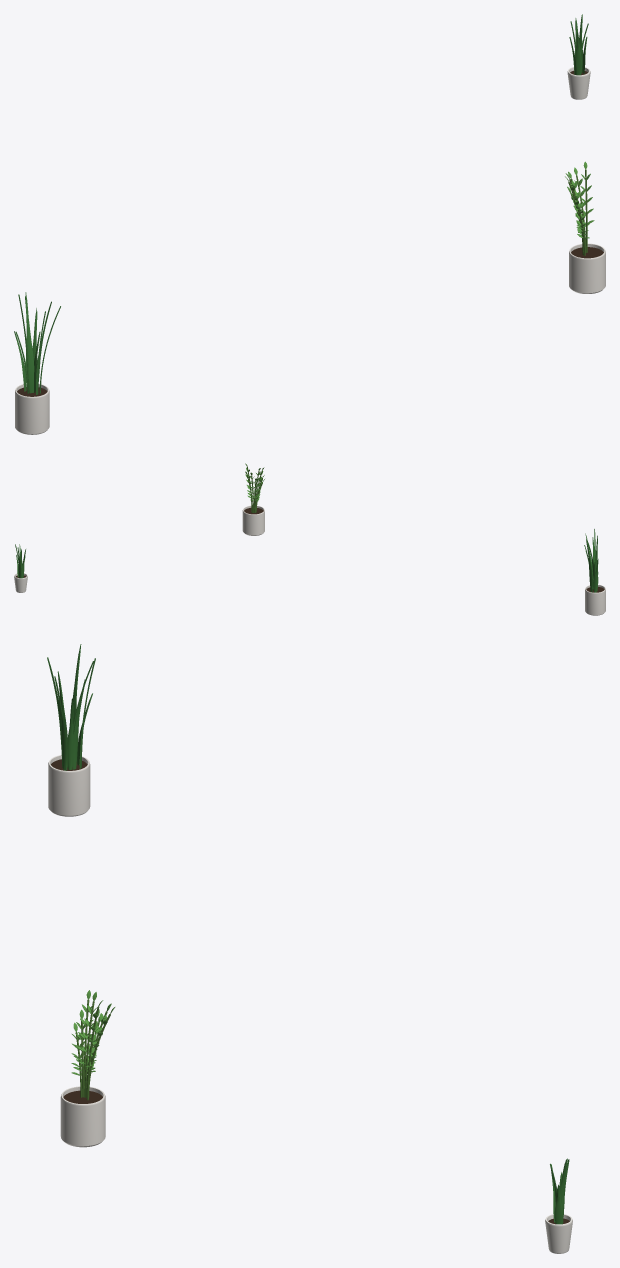
The model's file is BB_Plantas.fbx.
The picture shows the model from 3 angles, top to bottom: view 1: azimuth 30°, elevation 25°; view 2: azimuth 150°, elevation 25°; view 3: azimuth 270°, elevation 25°; orthographic projection. The views are drawn at different scales.
Parts seen in each view (by area): view 1: Planta_Entrada_Zamioculca_Vaso, Planta_Sala_Espada_Folhas, Planta_Sala_Espada_Vaso, Planta_Entrada_Zamioculca_Folhas, Planta_Banheiro_Espada_Folhas, Planta_Banheiro_Espada_Vaso; view 2: Planta_Entrada_Zamioculca_Vaso, Planta_Sala_Espada_Vaso, Planta_Sala_Espada_Folhas, Planta_Entrada_Zamioculca_Hastes, Planta_Entrada_Zamioculca_Folhas, Planta_Banheiro_Espada_Folhas; view 3: Planta_Entrada_Zamioculca_Vaso, Planta_Sala_Espada_Vaso, Planta_Sala_Espada_Folhas, Planta_Entrada_Zamioculca_Hastes, Planta_Entrada_Zamioculca_Folhas, Planta_Banheiro_Espada_Vaso.
Part boxes in pixels (left/top/right/bottom): Planta_Entrada_Zamioculca_Vaso: left=569, top=243, right=605, bottom=293; Planta_Sala_Espada_Folhas: left=14, top=292, right=60, bottom=394; Planta_Sala_Espada_Vaso: left=15, top=383, right=49, bottom=434; Planta_Entrada_Zamioculca_Folhas: left=565, top=161, right=594, bottom=238; Planta_Banheiro_Espada_Folhas: left=569, top=14, right=588, bottom=75; Planta_Banheiro_Espada_Vaso: left=567, top=67, right=590, bottom=99; Planta_Entrada_Zamioculca_Vaso: left=242, top=505, right=264, bottom=535; Planta_Sala_Espada_Vaso: left=585, top=584, right=605, bottom=615; Planta_Sala_Espada_Folhas: left=584, top=529, right=598, bottom=592; Planta_Entrada_Zamioculca_Hastes: left=246, top=466, right=262, bottom=512; Planta_Entrada_Zamioculca_Folhas: left=245, top=463, right=264, bottom=501; Planta_Banheiro_Espada_Folhas: left=15, top=544, right=25, bottom=578; Planta_Entrada_Zamioculca_Vaso: left=60, top=1086, right=105, bottom=1147; Planta_Sala_Espada_Vaso: left=48, top=755, right=90, bottom=816; Planta_Sala_Espada_Folhas: left=47, top=644, right=95, bottom=770; Planta_Entrada_Zamioculca_Hastes: left=75, top=999, right=110, bottom=1100; Planta_Entrada_Zamioculca_Folhas: left=71, top=990, right=115, bottom=1075; Planta_Banheiro_Espada_Vaso: left=545, top=1214, right=572, bottom=1253.
Size of the model in its own units: 7.71 by 1.26 by 3.76.
